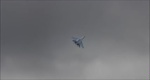maybay_muctieu: (71, 35, 85, 50)
